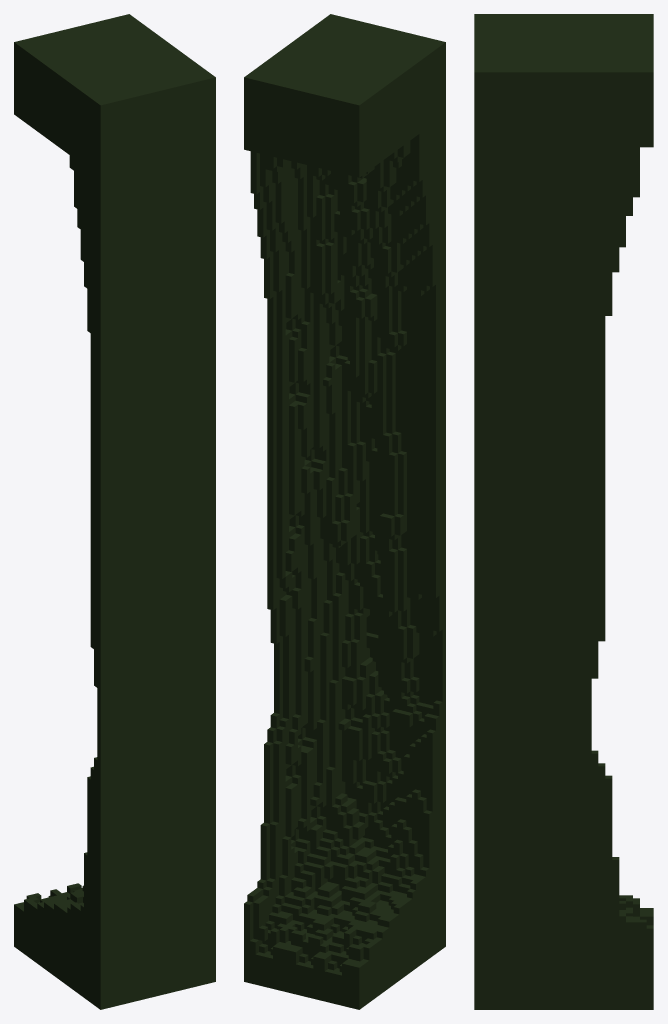
The model's file is Wall_2_mirror.glb.
3 views of the same model, side by side, from view 1: azimuth 30°, elevation 25°; view 2: azimuth 150°, elevation 25°; view 3: azimuth 270°, elevation 25° (orthographic). The views are drawn at different scales.
Visible parts, largest first — view 1: Untitled.011; view 2: Untitled.011; view 3: Untitled.011.
Part boxes in pixels (x1=…): Untitled.011: x1=14, y1=14, x2=215, y2=1009; Untitled.011: x1=244, y1=14, x2=445, y2=1009; Untitled.011: x1=474, y1=14, x2=653, y2=1009.
Size of the model in its own units: 2 by 15 by 2.6.
1 material, 1 textured.
